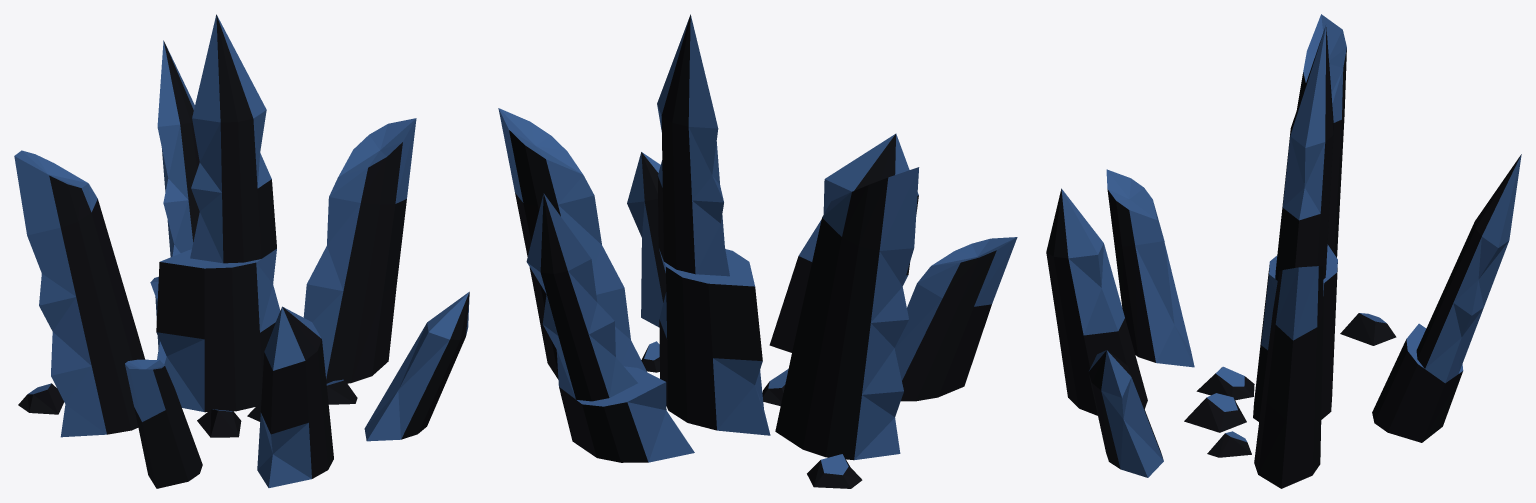
Rendered from obsidian-shard-cluster-c8f5d3.glb.
3 views of the same model, side by side, from view 1: azimuth 30°, elevation 25°; view 2: azimuth 150°, elevation 25°; view 3: azimuth 270°, elevation 25° (orthographic). The views are drawn at different scales.
Parts seen in each view (by area): view 1: obsidian, sheen; view 2: obsidian, sheen; view 3: obsidian, sheen.
Boxes of the visible parts, <box> form: obsidian: <box>18,14,469,488</box>; sheen: <box>14,15,469,487</box>; obsidian: <box>509,15,996,488</box>; sheen: <box>498,14,1017,475</box>; obsidian: <box>1046,27,1520,488</box>; sheen: <box>1061,14,1521,477</box>.
Size of the model in its own units: 1 by 0.8994 by 1.
